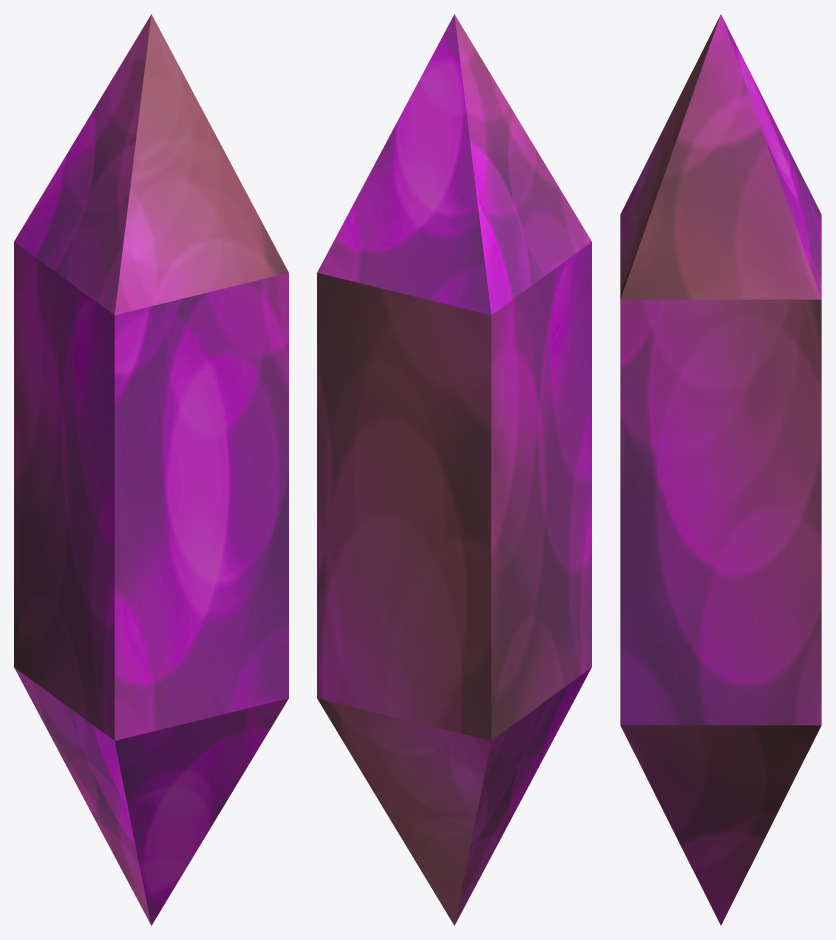
The model's file is energy_stone_epic.obj.
The picture shows the model from 3 angles, left to right: view 1: azimuth 30°, elevation 25°; view 2: azimuth 150°, elevation 25°; view 3: azimuth 270°, elevation 25°; orthographic projection.
Visible parts, largest first — view 1: Cube, Pyramid; view 2: Cube, Pyramid; view 3: Cube, Pyramid.
Boxes of the visible parts, <box> form: Cube: <box>14,242,288,740</box>; Pyramid: <box>14,14,288,925</box>; Cube: <box>317,242,591,740</box>; Pyramid: <box>317,14,591,925</box>; Cube: <box>620,299,821,725</box>; Pyramid: <box>620,14,821,925</box>.
Size of the model in its own units: 3 by 15 by 3.
